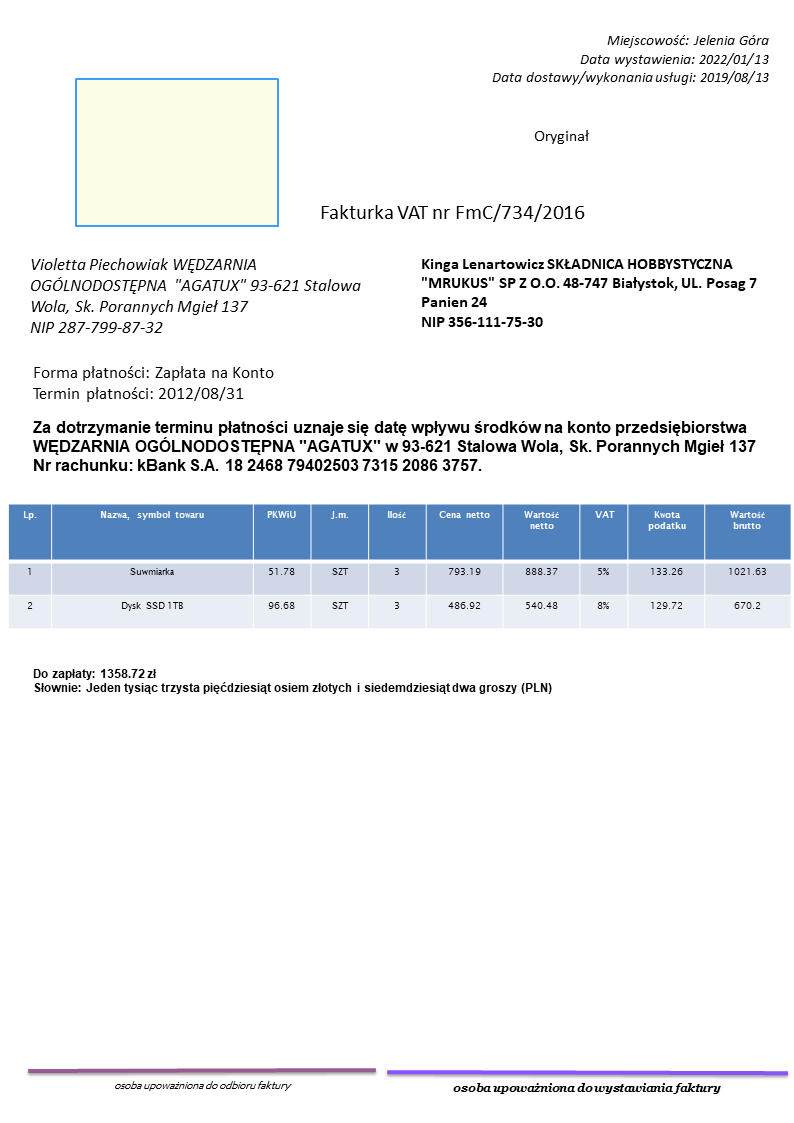Table: (6, 502, 792, 632)
TextBox: (28, 416, 761, 475), (28, 254, 366, 338), (418, 254, 758, 332), (28, 665, 554, 699), (488, 27, 771, 88), (30, 361, 275, 403), (317, 200, 586, 224), (450, 1078, 723, 1098), (112, 1078, 291, 1095), (530, 126, 592, 146)
